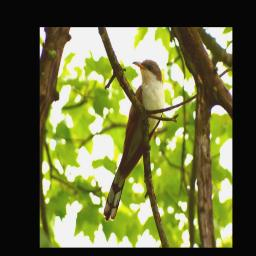Cuckoo: (103, 59, 165, 223)
